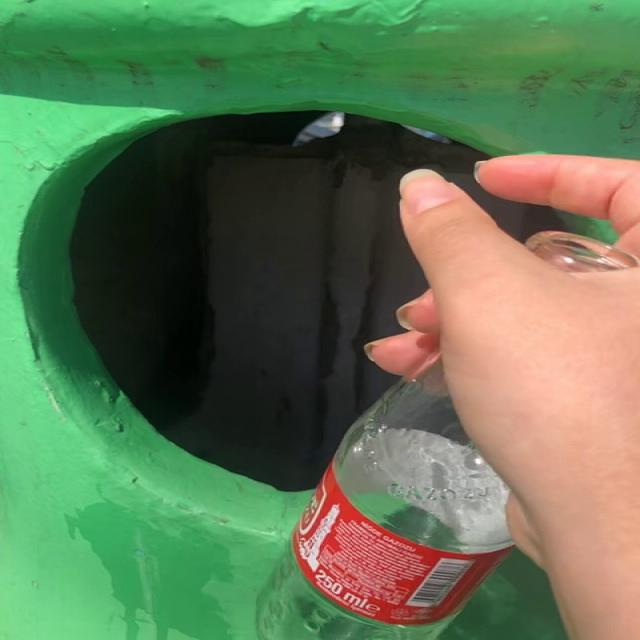glass: (257, 363, 512, 640), (521, 231, 639, 272)
